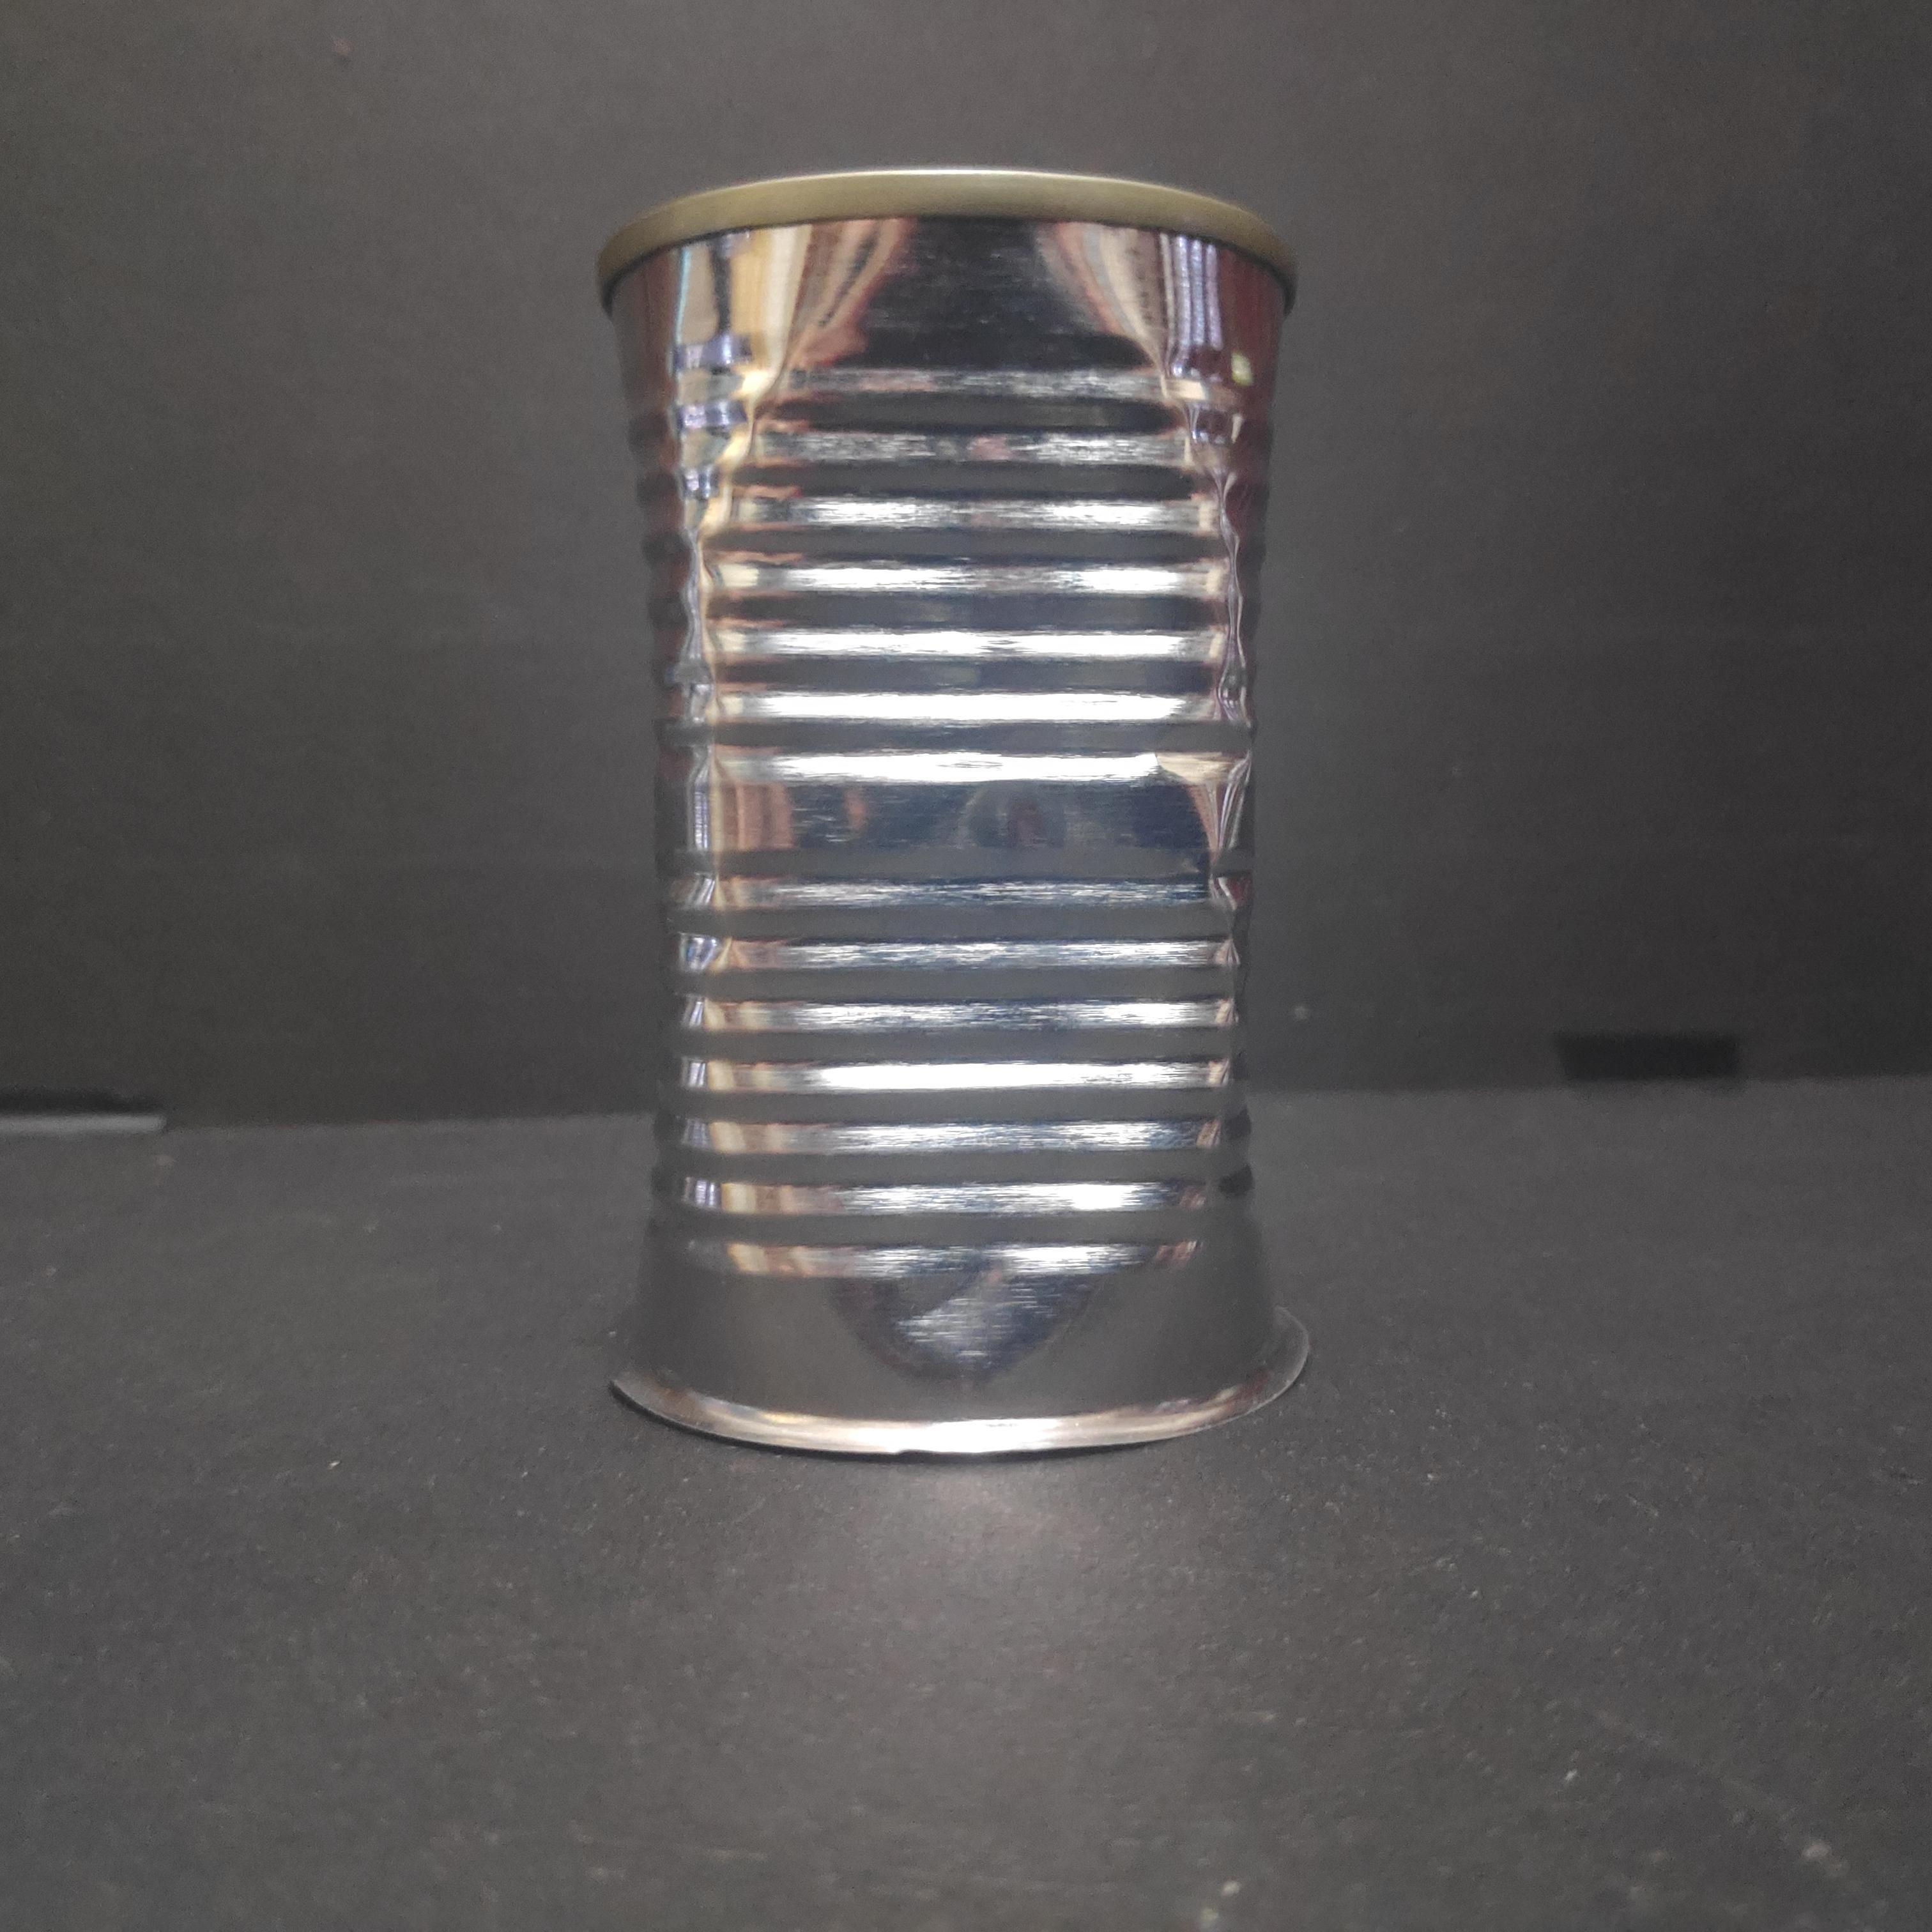Dented: (575, 140, 1320, 1467)
